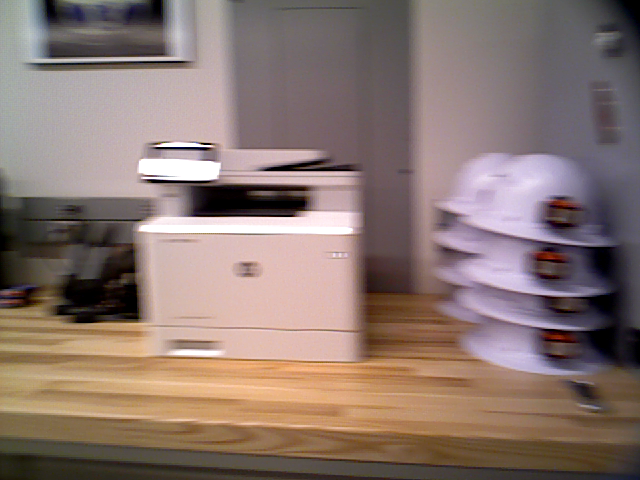painting2: (20, 1, 211, 70)
